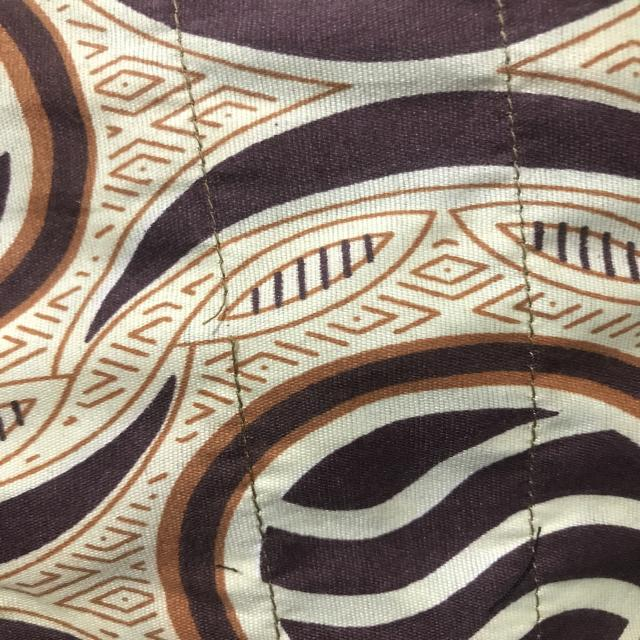broken: (182, 273, 262, 359)
